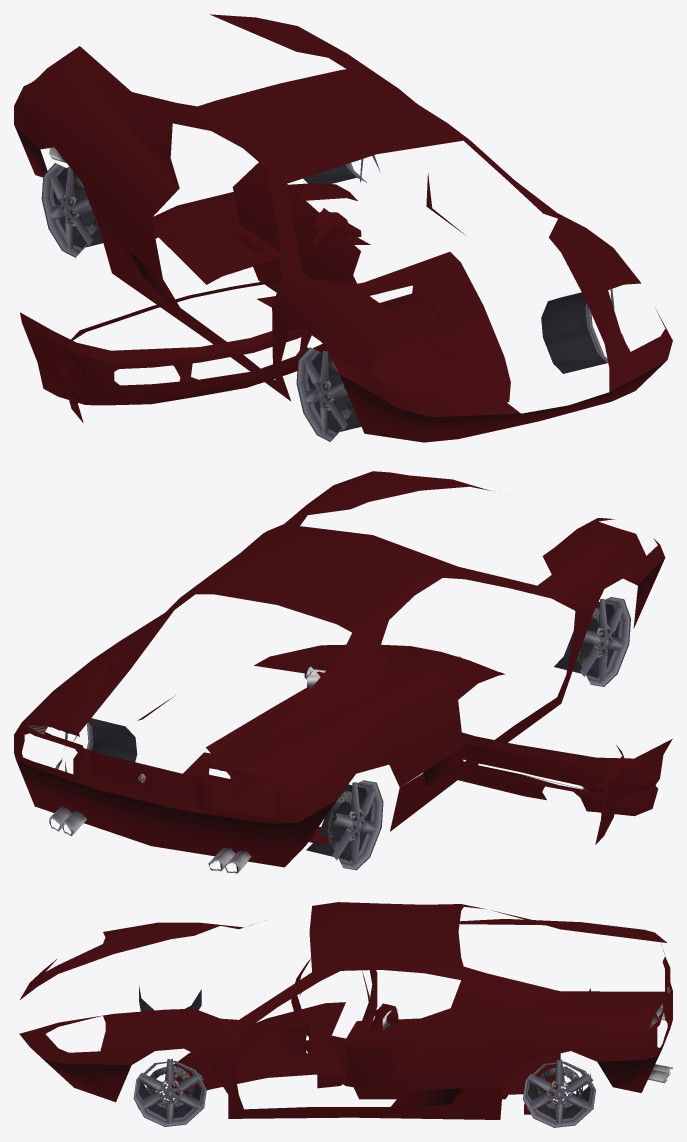
The model's file is car-SUPR_Car1.glb.
3 views of the same model, one above another, from view 1: azimuth 30°, elevation 25°; view 2: azimuth 150°, elevation 25°; view 3: azimuth 270°, elevation 25° (orthographic). The views are drawn at different scales.
Parts seen in each view (by area): view 1: SUPR_Car1; view 2: SUPR_Car1; view 3: SUPR_Car1.
Part boxes in pixels (bbox=[...]): SUPR_Car1: bbox=[14, 14, 672, 442]; SUPR_Car1: bbox=[14, 471, 672, 873]; SUPR_Car1: bbox=[19, 902, 672, 1127].
Bounding box in the file's own units: 2.82 × 1.39 × 4.61.
Materials: 19 (19 with a texture image).
